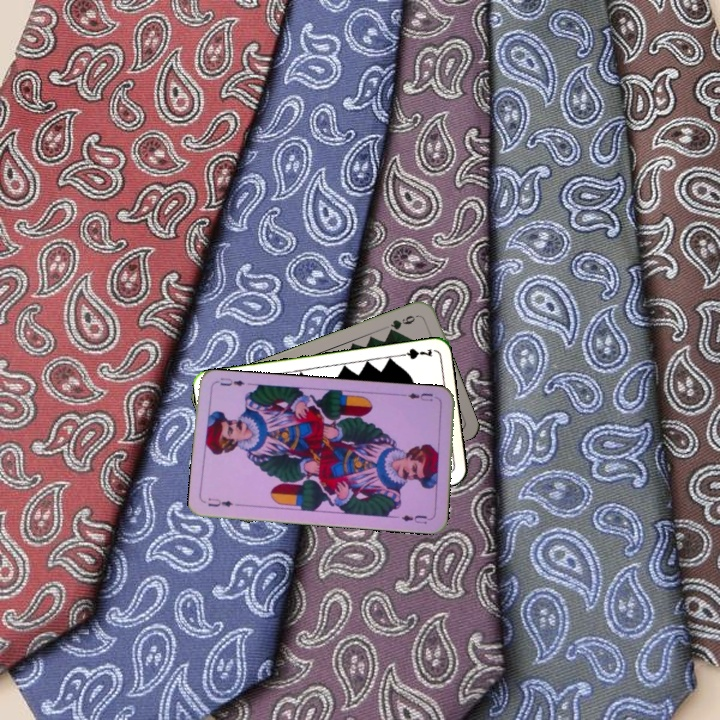EU: (204, 494, 236, 509), (404, 389, 435, 404)
G7: (394, 344, 435, 362)
G9: (385, 311, 421, 335)
